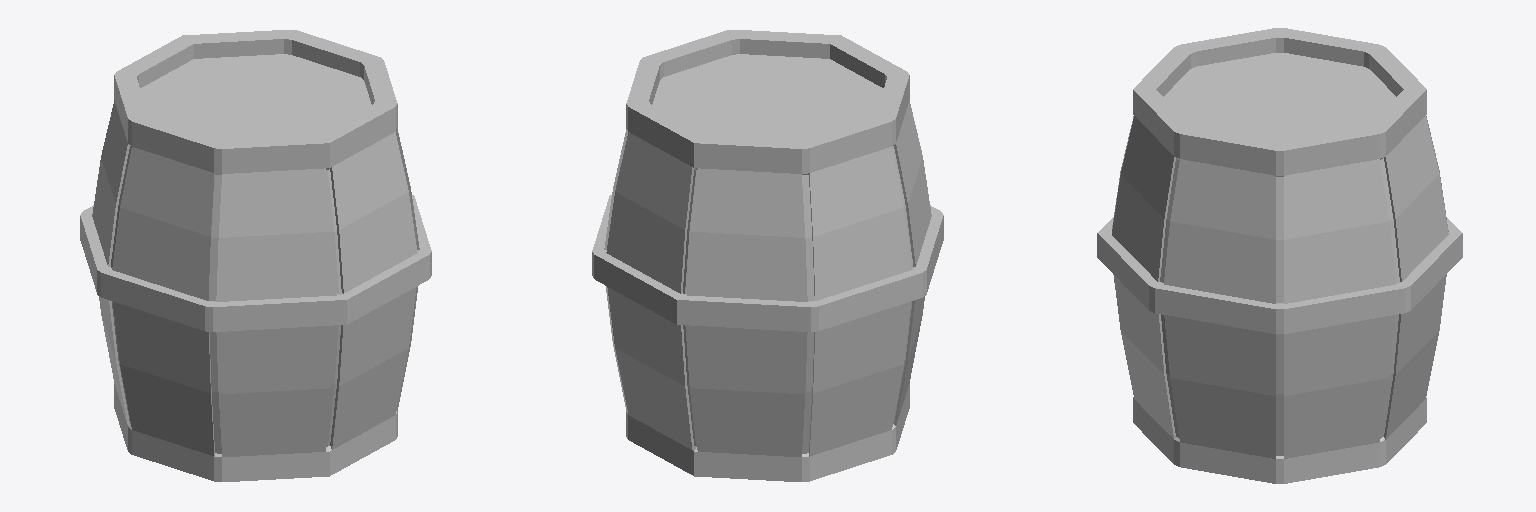
The model's file is barrel.obj.
3 views of the same model, side by side, from view 1: azimuth 30°, elevation 25°; view 2: azimuth 150°, elevation 25°; view 3: azimuth 270°, elevation 25° (orthographic).
Visible parts, largest first — view 1: Circle_Circle.001; view 2: Circle_Circle.001; view 3: Circle_Circle.001.
Boxes of the visible parts, x1=… form: Circle_Circle.001: x1=80, y1=30, x2=431, y2=481; Circle_Circle.001: x1=592, y1=30, x2=943, y2=481; Circle_Circle.001: x1=1097, y1=28, x2=1462, y2=483.
Size of the model in its own units: 1.84 by 1.87 by 1.86.